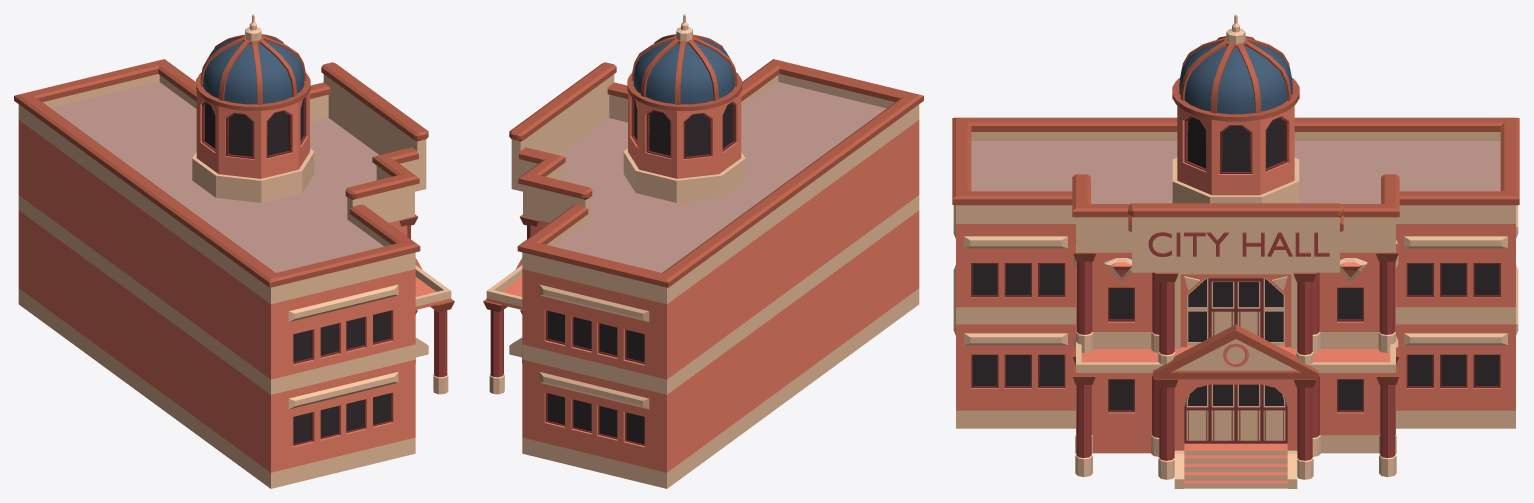
The model's file is ayuntamiento (2x2).fbx.
3 views of the same model, side by side, from view 1: azimuth 30°, elevation 25°; view 2: azimuth 150°, elevation 25°; view 3: azimuth 270°, elevation 25° (orthographic). The views are drawn at different scales.
Parts seen in each view (by area): view 1: PublicBuilding_CityHall; view 2: PublicBuilding_CityHall; view 3: PublicBuilding_CityHall.
Part boxes in pixels (<box>): PublicBuilding_CityHall: <box>14,14,454,488</box>; PublicBuilding_CityHall: <box>483,14,923,488</box>; PublicBuilding_CityHall: <box>952,14,1519,488</box>.
Size of the model in its own units: 216 by 284 by 370.
